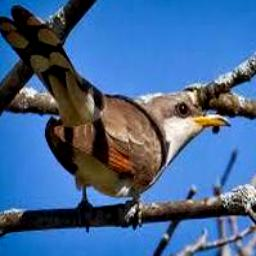Cuckoo: (0, 5, 232, 210)
